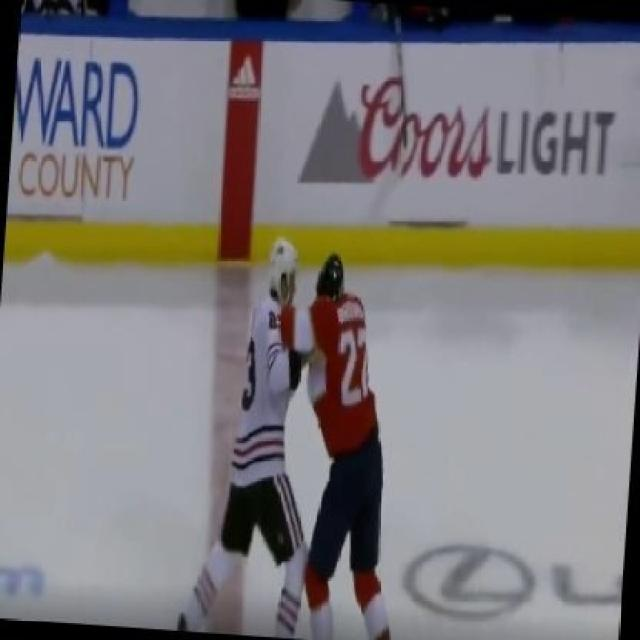fight: (158, 223, 434, 639)
